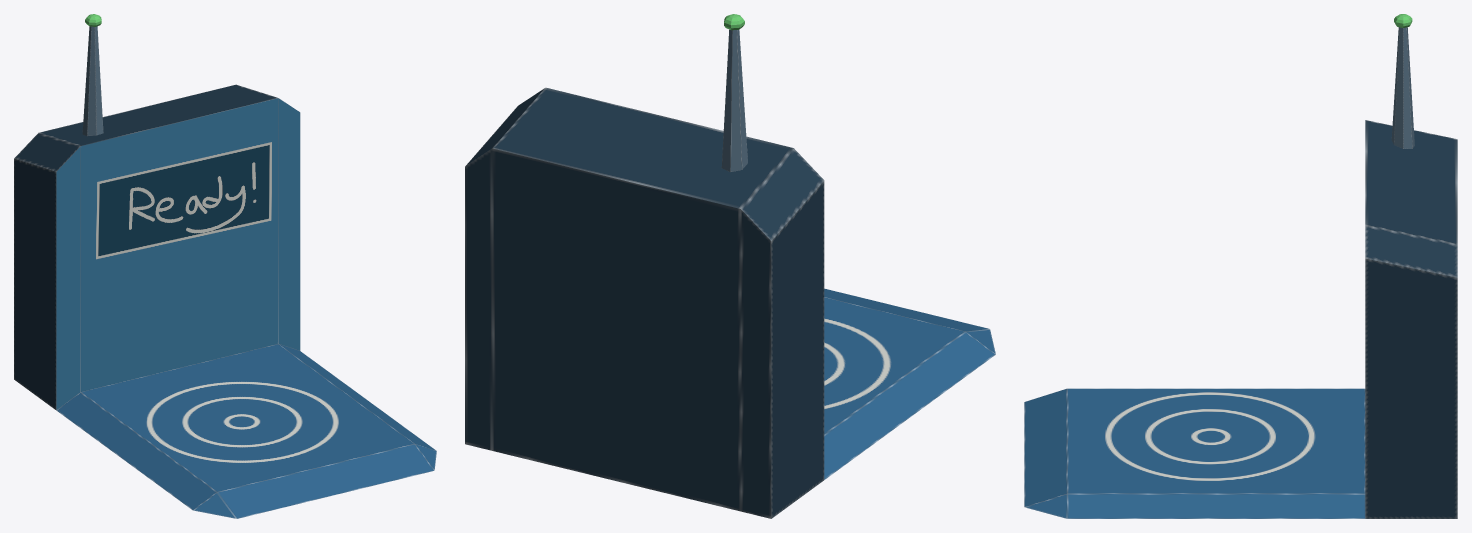
Rendered from Station2.fbx.
3 views of the same model, side by side, from view 1: azimuth 30°, elevation 25°; view 2: azimuth 150°, elevation 25°; view 3: azimuth 270°, elevation 25° (orthographic). The views are drawn at different scales.
Parts seen in each view (by area): view 1: Station; view 2: Station; view 3: Station.
Boxes of the visible parts, x1,y1,x2,y2 form: Station: (14, 14, 436, 518); Station: (465, 14, 995, 518); Station: (1024, 14, 1457, 518).
Size of the model in its own units: 43.87 by 63.48 by 61.84.
